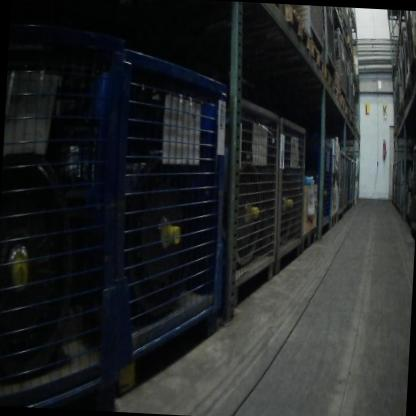pallet: (280, 6, 312, 56), (293, 227, 318, 264), (305, 38, 327, 75), (253, 3, 283, 20), (320, 64, 336, 94), (392, 108, 408, 138), (403, 85, 416, 115), (327, 80, 341, 105), (343, 31, 354, 61), (405, 73, 412, 103), (396, 96, 405, 119), (329, 211, 337, 234), (339, 94, 347, 114), (330, 8, 342, 21), (412, 28, 416, 60), (350, 21, 359, 32), (344, 106, 350, 120), (351, 114, 355, 128)
stillage: (79, 28, 241, 403), (0, 23, 134, 409), (223, 87, 288, 309), (269, 106, 308, 282), (299, 142, 336, 239), (330, 31, 348, 98), (320, 8, 340, 68), (405, 139, 416, 234), (399, 21, 413, 94), (305, 6, 326, 52), (398, 155, 410, 221), (336, 148, 347, 218), (393, 61, 405, 104), (342, 154, 350, 212), (343, 57, 351, 106), (348, 70, 356, 117), (346, 153, 352, 209), (396, 157, 402, 211), (349, 154, 355, 205), (391, 162, 397, 210), (352, 159, 357, 200), (340, 13, 350, 27)
